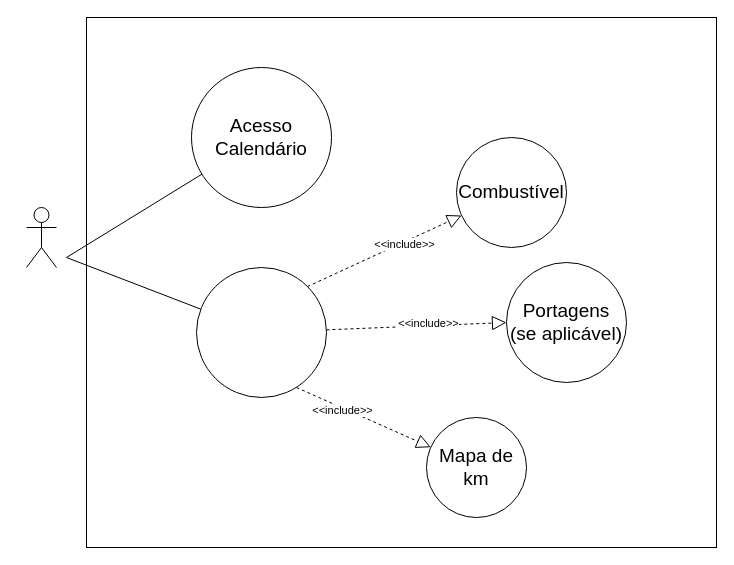
The diagram is 734 pixels wide and 565 high, and some of its shapes have lost their labels. The centre of each missing label's shape, as x and y in pixels:
Motorista: the point at 41,237
Registar Despesas: the point at 261,332
